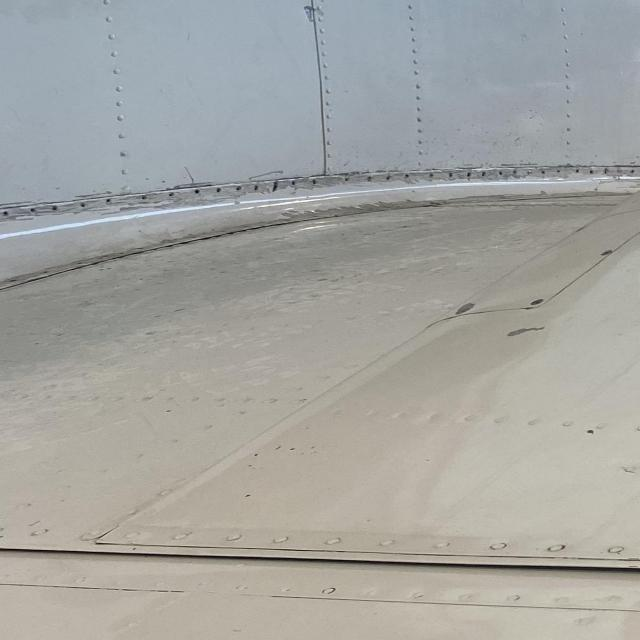Crack: (296, 171, 373, 185)
Paint-off: (505, 327, 543, 337), (458, 302, 476, 312), (304, 3, 314, 19), (314, 7, 326, 16), (637, 163, 640, 166)
Scratch: (0, 189, 174, 227), (173, 165, 215, 187), (239, 170, 291, 182)
